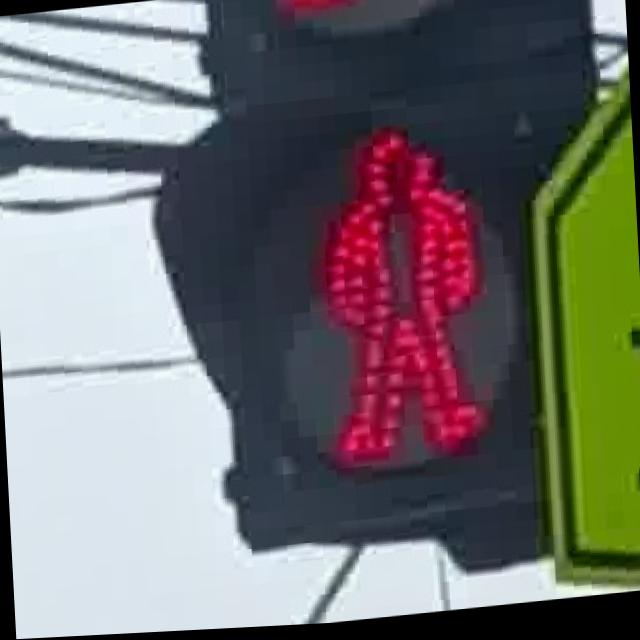red_light: (282, 99, 493, 486)
